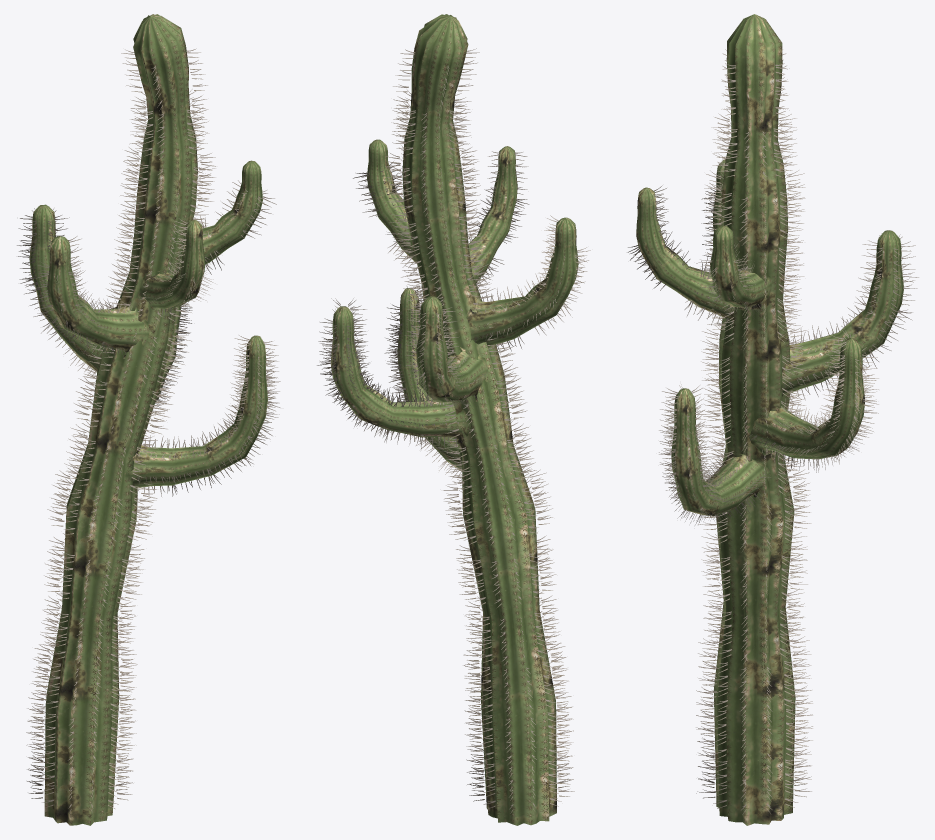
The picture shows the model from 3 angles, left to right: view 1: azimuth 30°, elevation 25°; view 2: azimuth 150°, elevation 25°; view 3: azimuth 270°, elevation 25°; orthographic projection. The views are drawn at different scales.
Visible parts, largest first — view 1: Tree_0, Tree_1; view 2: Tree_0, Tree_1; view 3: Tree_0, Tree_1.
Part boxes in pixels (x1,y1,x2,y2): Tree_0: (29, 14, 267, 825); Tree_1: (17, 48, 280, 812); Tree_0: (330, 14, 578, 825); Tree_1: (317, 48, 590, 813); Tree_0: (636, 14, 903, 825); Tree_1: (627, 49, 918, 814).
Size of the model in its own units: 0.7292 by 2.26 by 0.7338.
2 materials, 2 textured.
